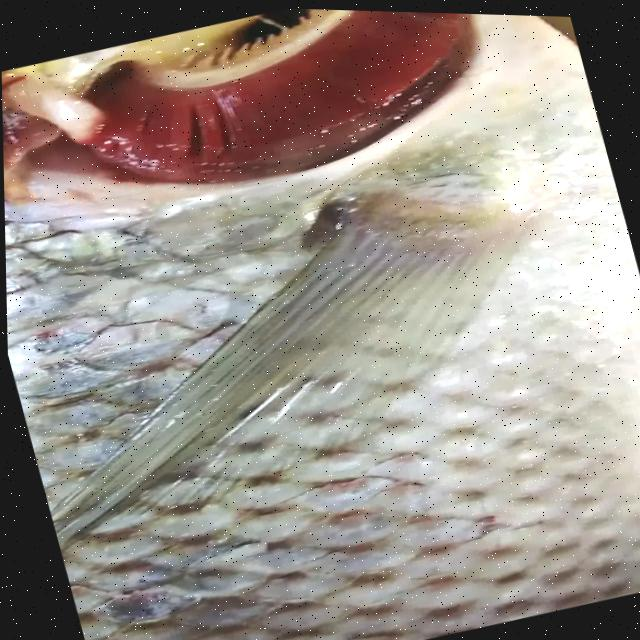Fresh: (33, 1, 528, 238)
